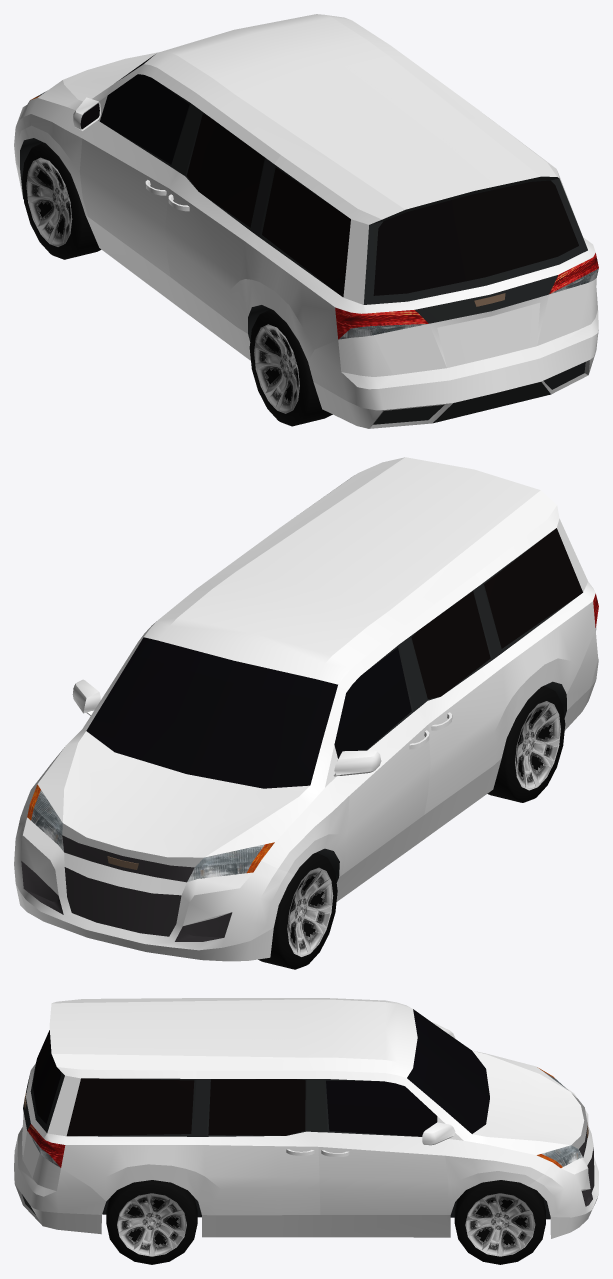
The model's file is aq-people-carrier.glb.
The picture shows the model from 3 angles, top to bottom: view 1: azimuth 30°, elevation 25°; view 2: azimuth 150°, elevation 25°; view 3: azimuth 270°, elevation 25°; orthographic projection. The views are drawn at different scales.
Visible parts, largest first — view 1: people-carrier-paint.015, people-carrier-windows.015, people-carrier-blackparts.015, people-carrier-rim.061, people-carrier-rim.060, people-carrier-tire.056, people-carrier-tire.055, people-carrier-taillights.015, people-carrier-headlights.023, people-carrier-silvertrim.014; view 2: people-carrier-paint.015, people-carrier-windows.015, people-carrier-grills.015, people-carrier-blackparts.015, people-carrier-rim.061, people-carrier-rim.060, people-carrier-tire.056, people-carrier-tire.055, people-carrier-headlights.023, people-carrier-silvertrim.014; view 3: people-carrier-paint.015, people-carrier-windows.015, people-carrier-blackparts.015, people-carrier-rim.062, people-carrier-rim.063, people-carrier-tire.058, people-carrier-tire.057, people-carrier-headlights.023, people-carrier-taillights.015, people-carrier-grills.015, people-carrier-silvertrim.014.
Boxes of the visible parts, left/top/right/bottom form: people-carrier-paint.015: left=14, top=14, right=598, bottom=428; people-carrier-windows.015: left=80, top=54, right=578, bottom=296; people-carrier-blackparts.015: left=20, top=80, right=587, bottom=424; people-carrier-rim.061: left=254, top=324, right=299, bottom=413; people-carrier-rim.060: left=26, top=157, right=72, bottom=246; people-carrier-tire.056: left=249, top=309, right=332, bottom=426; people-carrier-tire.055: left=22, top=142, right=101, bottom=259; people-carrier-taillights.015: left=335, top=253, right=598, bottom=339; people-carrier-headlights.023: left=35, top=91, right=598, bottom=339; people-carrier-silvertrim.014: left=369, top=360, right=589, bottom=428; people-carrier-paint.015: left=14, top=457, right=598, bottom=961; people-carrier-windows.015: left=86, top=528, right=582, bottom=788; people-carrier-grills.015: left=21, top=835, right=232, bottom=941; people-carrier-blackparts.015: left=316, top=533, right=580, bottom=882; people-carrier-rim.061: left=515, top=701, right=560, bottom=790; people-carrier-rim.060: left=287, top=867, right=333, bottom=956; people-carrier-tire.056: left=487, top=686, right=565, bottom=802; people-carrier-tire.055: left=258, top=852, right=337, bottom=969; people-carrier-headlights.023: left=31, top=790, right=264, bottom=882; people-carrier-silvertrim.014: left=62, top=823, right=203, bottom=867; people-carrier-paint.015: left=14, top=998, right=598, bottom=1238; people-carrier-windows.015: left=32, top=1009, right=489, bottom=1136; people-carrier-blackparts.015: left=22, top=1059, right=550, bottom=1219; people-carrier-rim.062: left=465, top=1193, right=535, bottom=1256; people-carrier-rim.063: left=117, top=1193, right=186, bottom=1256; people-carrier-tire.058: left=106, top=1180, right=197, bottom=1264; people-carrier-tire.057: left=454, top=1180, right=545, bottom=1264; people-carrier-headlights.023: left=27, top=1071, right=582, bottom=1167; people-carrier-taillights.015: left=27, top=1124, right=65, bottom=1167; people-carrier-grills.015: left=579, top=1126, right=594, bottom=1206; people-carrier-silvertrim.014: left=15, top=1093, right=587, bottom=1225.
Size of the model in its own units: 2.4 by 1.89 by 5.24.
Materials: 9 (6 with a texture image).
